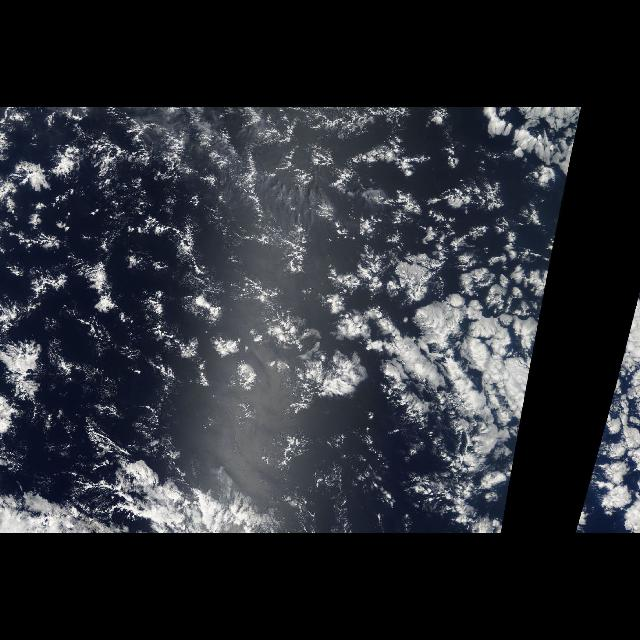Flower: (17, 118, 583, 520), (578, 290, 640, 520)
Gravel: (9, 108, 292, 376)
